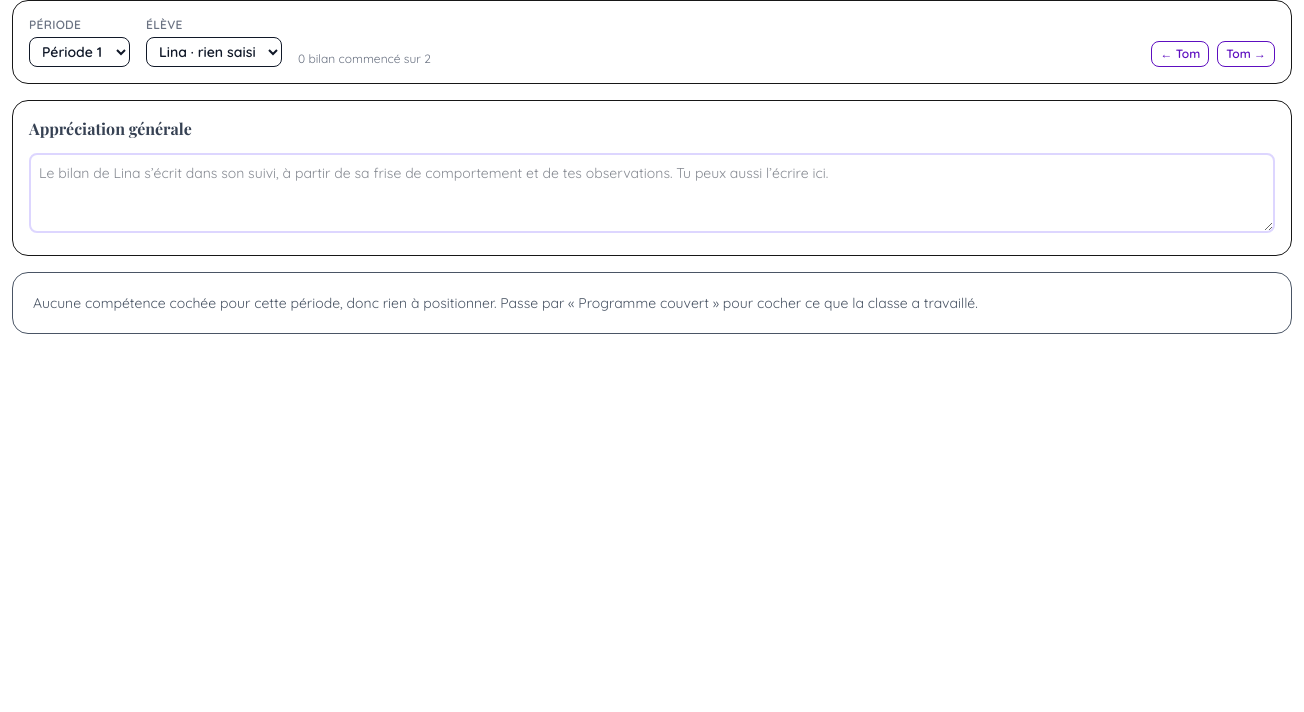
it: Livret › n’affiche pas une compétence cochée sur une autre période
Check: the text "Identifier des mots" is not shown
Select "Période 2" in the dropdown labelled "Période": {"x": 80, "y": 52} [29, 37, 130, 67]
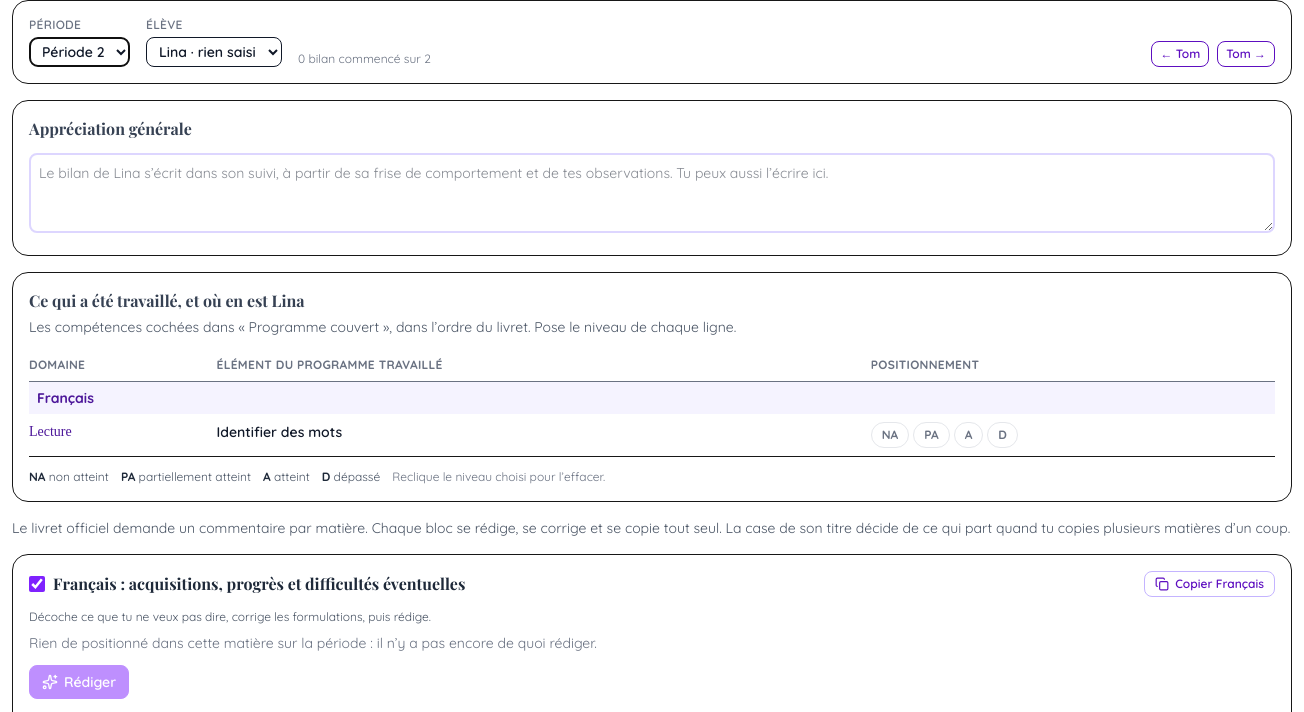
Check: the text "Identifier des mots" is shown, box [216, 414, 871, 456]
